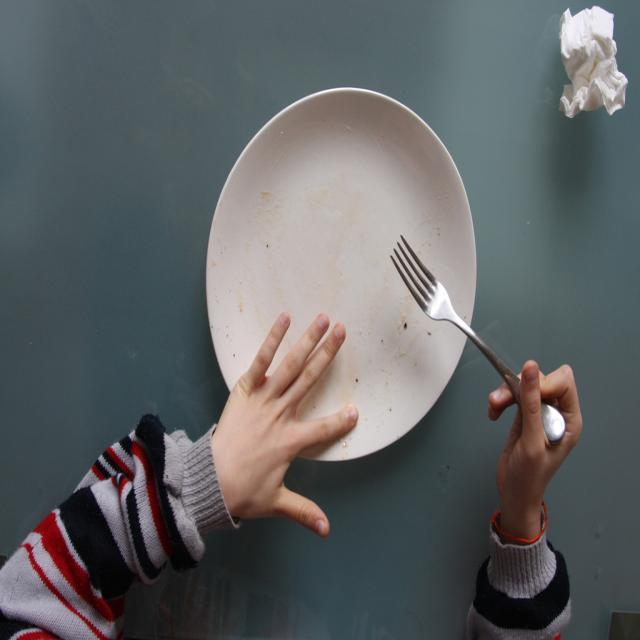non-organic waste: (206, 66, 471, 464)
